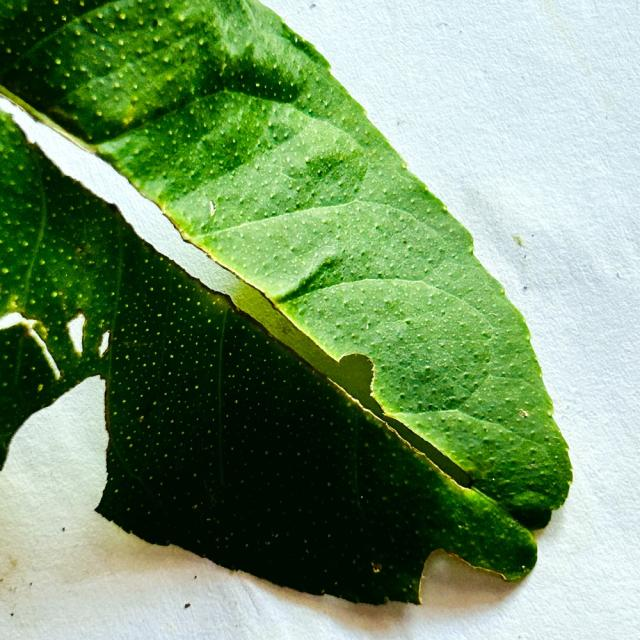Deficiency Leaf: (0, 98, 251, 300), (0, 383, 107, 529), (420, 549, 518, 609), (0, 312, 60, 380), (66, 314, 86, 356), (98, 331, 109, 356)
Lemon: (2, 0, 573, 607)
